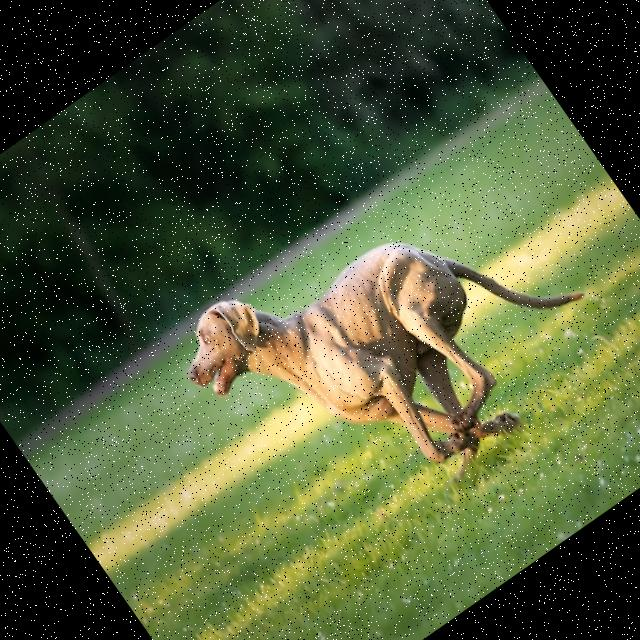Dog: (164, 127, 624, 563)
